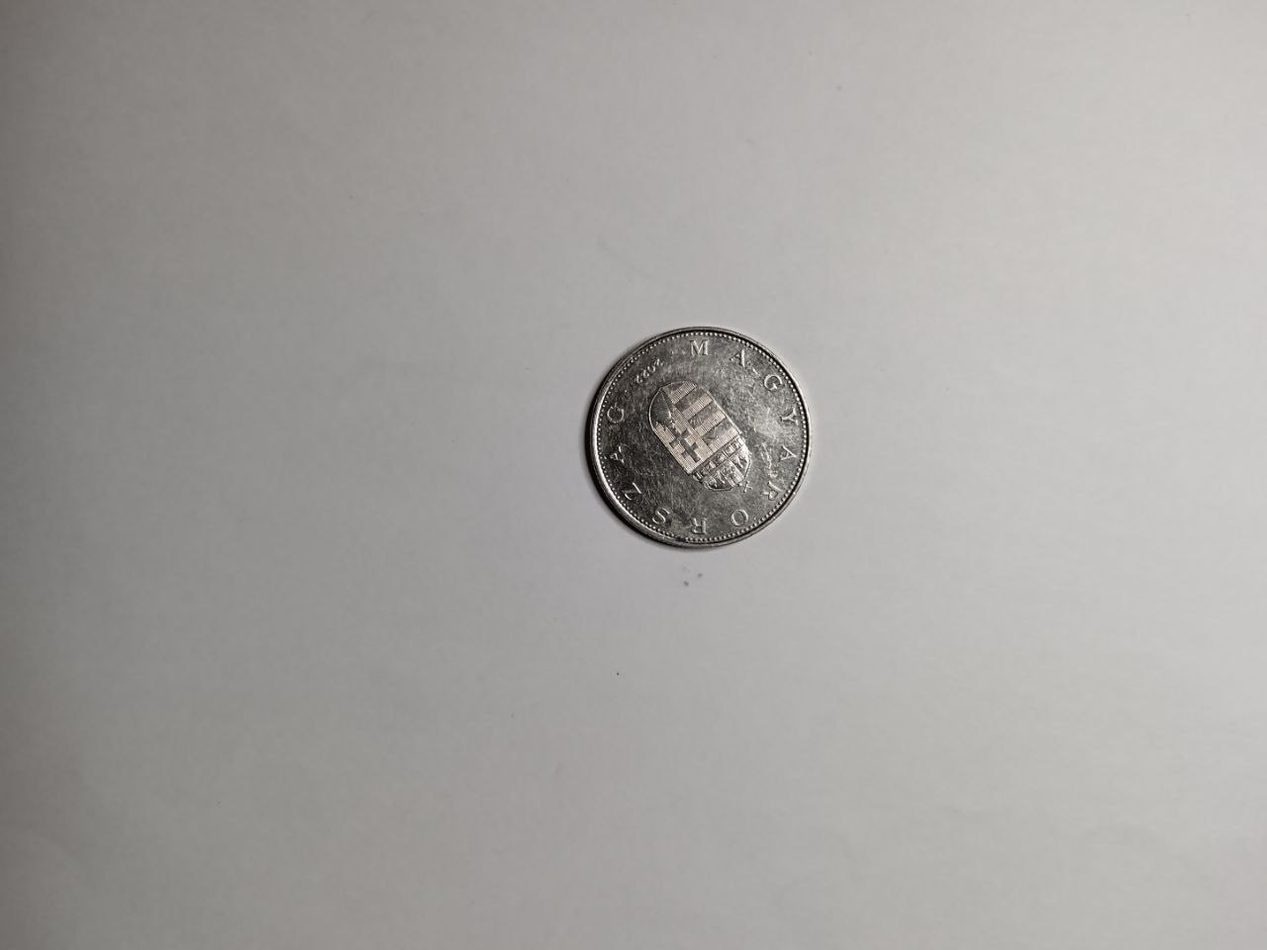10ft: (586, 327, 811, 548)
